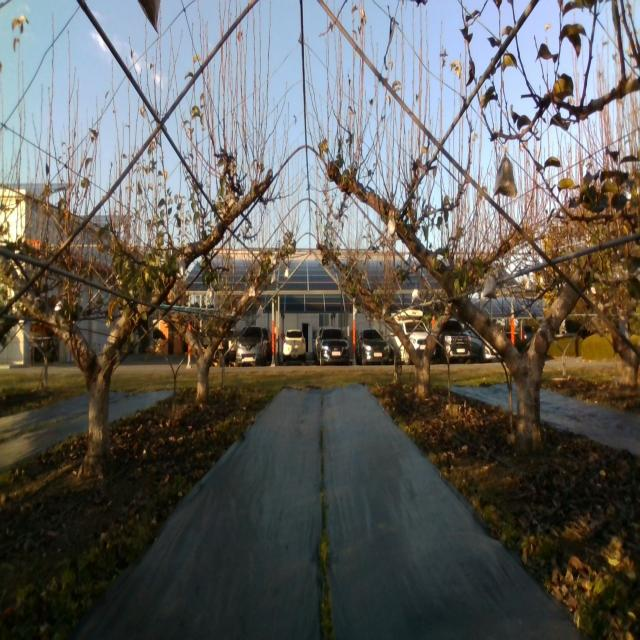pearbags: (493, 156, 518, 199), (483, 276, 497, 299)
